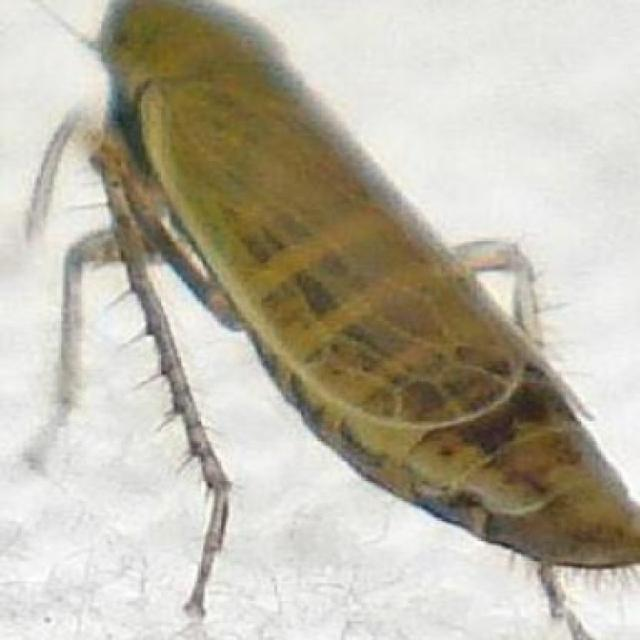green-leafhopper: (66, 4, 628, 574)
